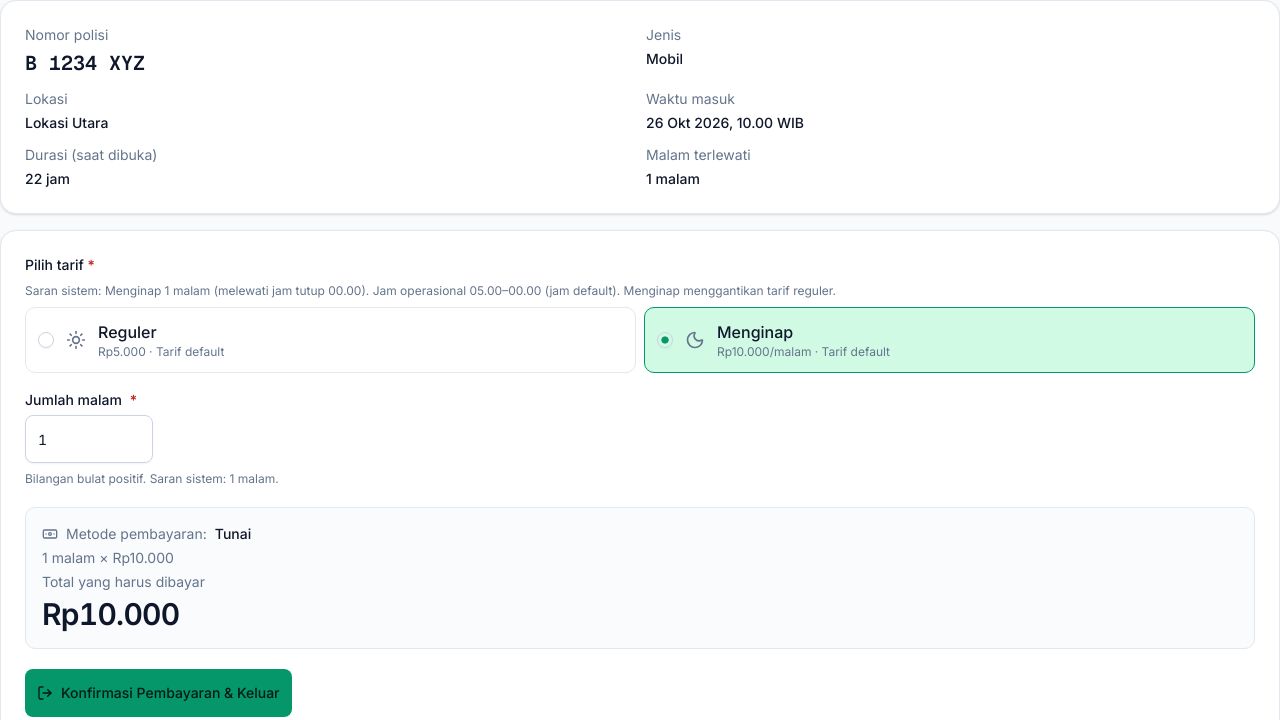
details and calculation (display only) › invalid night count -1 blocks confirmation
The width and height of the screenshot is (1280, 720).
Replace the text in the field labelled "Jumlah malam *" with "-1" at (89, 439), box [25,415,153,463]
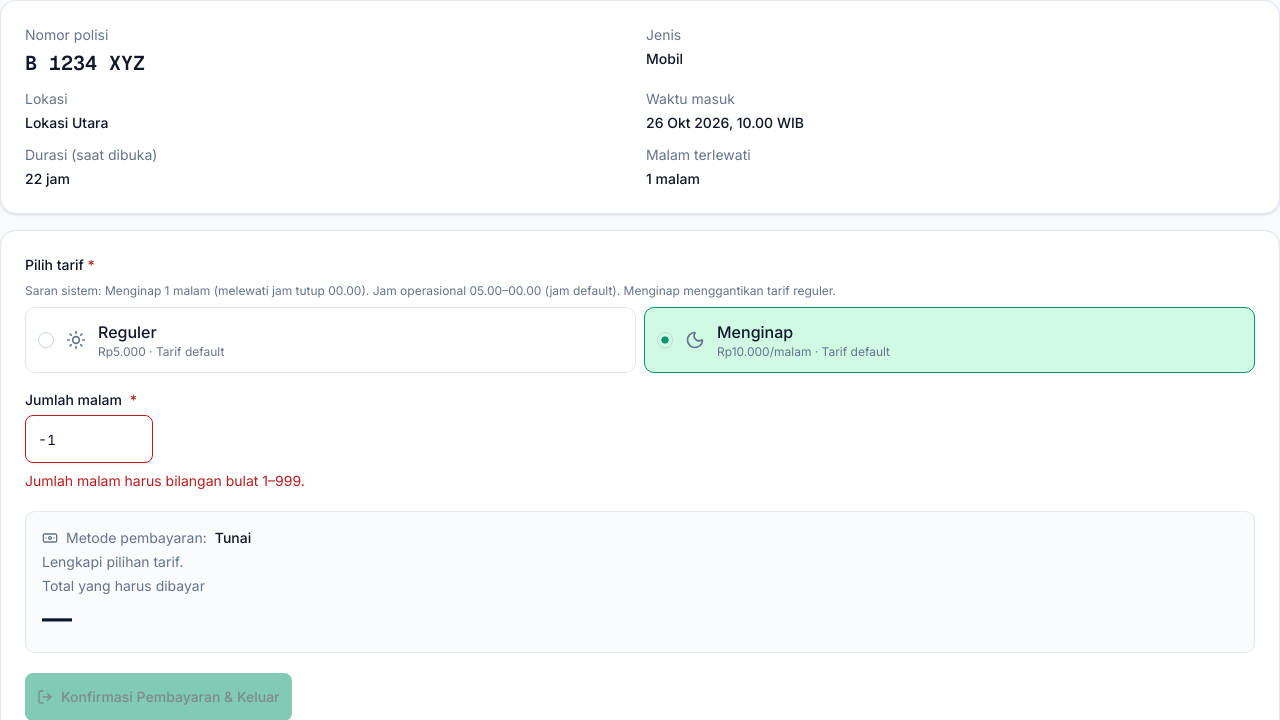
Expected: the message shows "bilangan bulat", [25,472,305,489]
Now the button "Konfirmasi Pembayaran & Keluar" is disabled, box [25,673,292,719]
